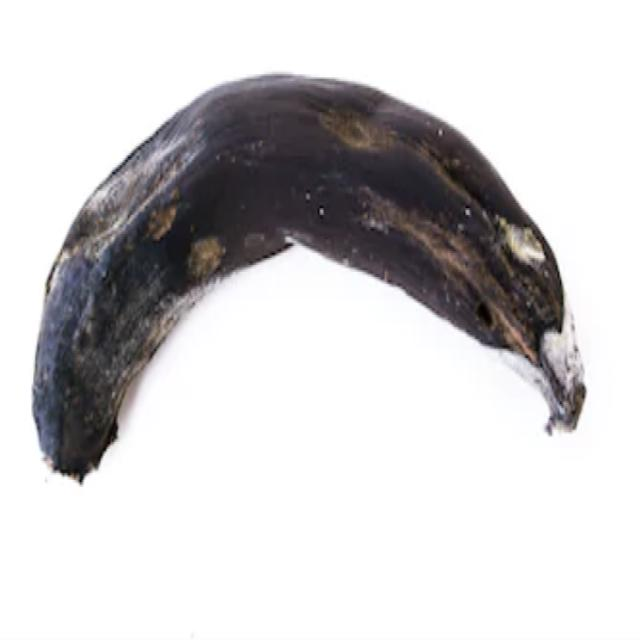rotten-banana: (30, 69, 588, 483)
